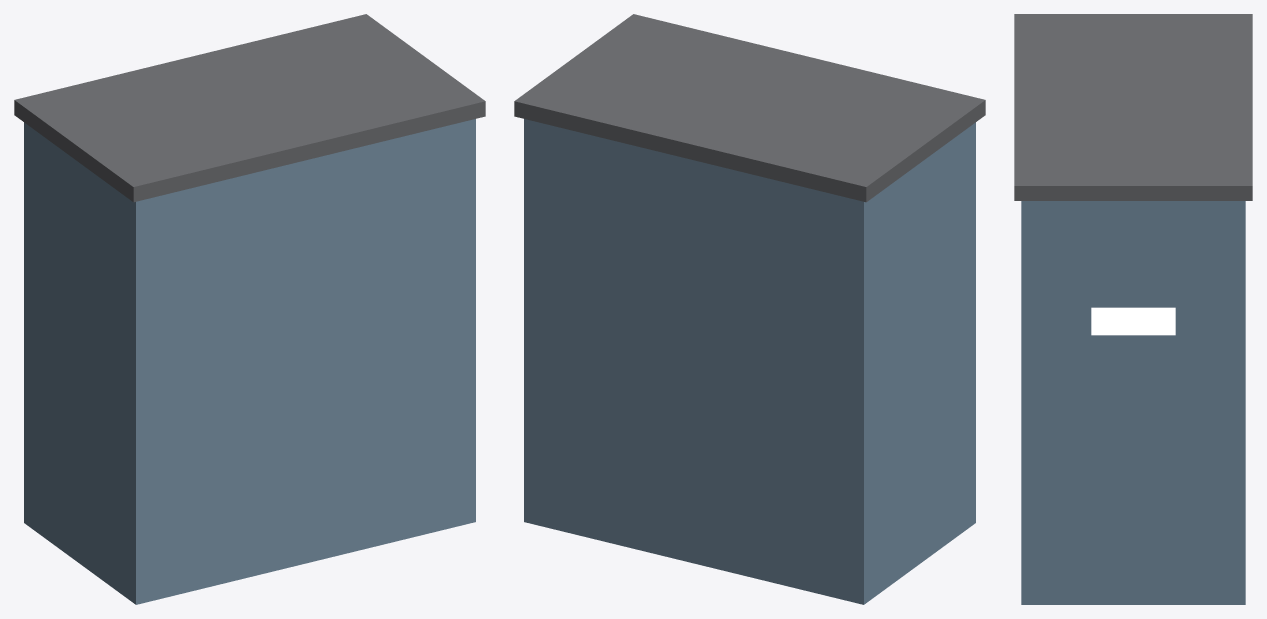
The model's file is deploy_rectifier.glb.
3 views of the same model, side by side, from view 1: azimuth 30°, elevation 25°; view 2: azimuth 150°, elevation 25°; view 3: azimuth 270°, elevation 25° (orthographic).
Parts seen in each view (by area): view 1: deploy_rectifier; view 2: deploy_rectifier; view 3: deploy_rectifier.
Part boxes in pixels (x1,y1,x2,y2): deploy_rectifier: (14,14,485,604); deploy_rectifier: (514,14,985,604); deploy_rectifier: (1014,14,1252,604).
Size of the model in its own units: 1.45 by 1.66 by 0.85.
